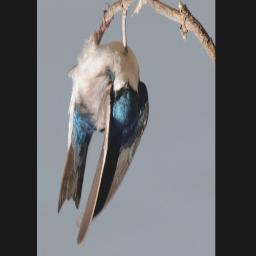Swallow: (56, 3, 150, 248)
